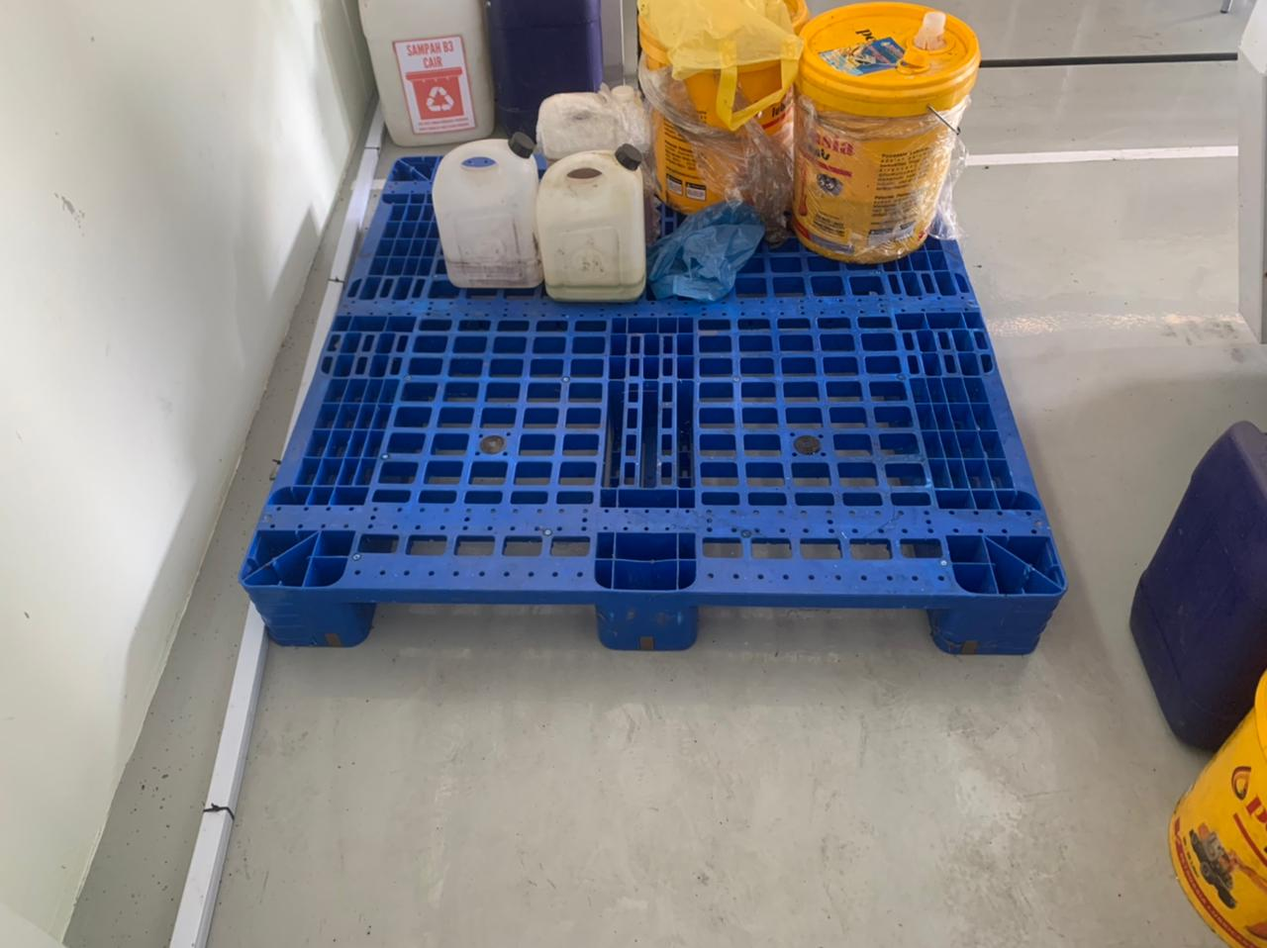block: (244, 578, 364, 645), (937, 597, 1061, 658), (593, 591, 697, 653)
front: (238, 584, 1065, 658)
hole pallet: (686, 607, 937, 649), (354, 603, 599, 644)
